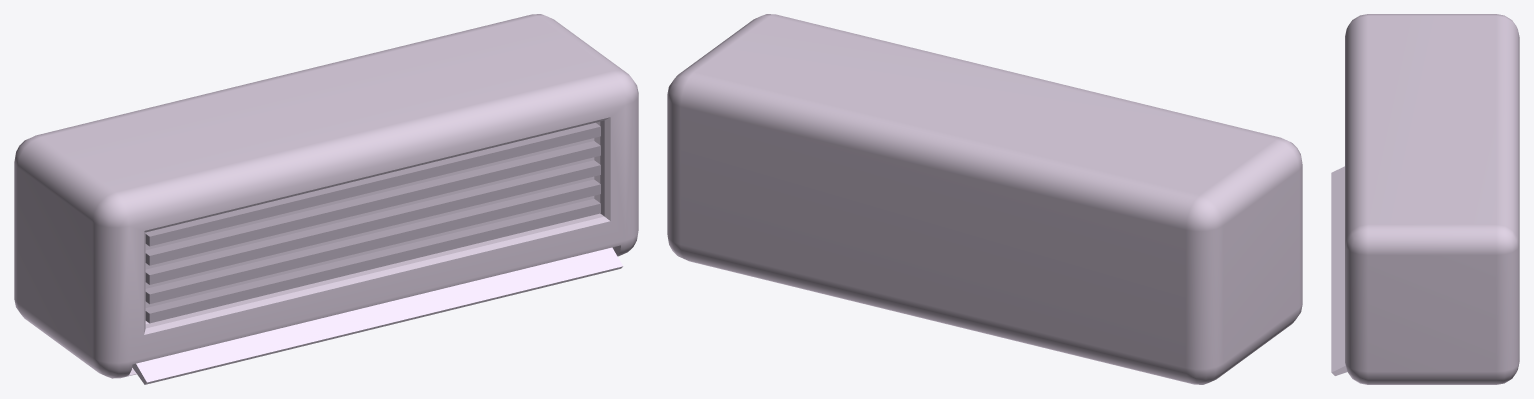
3 views of the same model, side by side, from view 1: azimuth 30°, elevation 25°; view 2: azimuth 150°, elevation 25°; view 3: azimuth 270°, elevation 25° (orthographic). The views are drawn at different scales.
Visible parts, largest first — view 1: AC_M; view 2: AC_M; view 3: AC_M.
Part boxes in pixels (bbox=[...]): AC_M: bbox=[14, 14, 638, 384]; AC_M: bbox=[667, 14, 1302, 384]; AC_M: bbox=[1331, 14, 1519, 384].
Size of the model in its own units: 188 by 61.05 by 65.77.
1 material, 1 textured.
